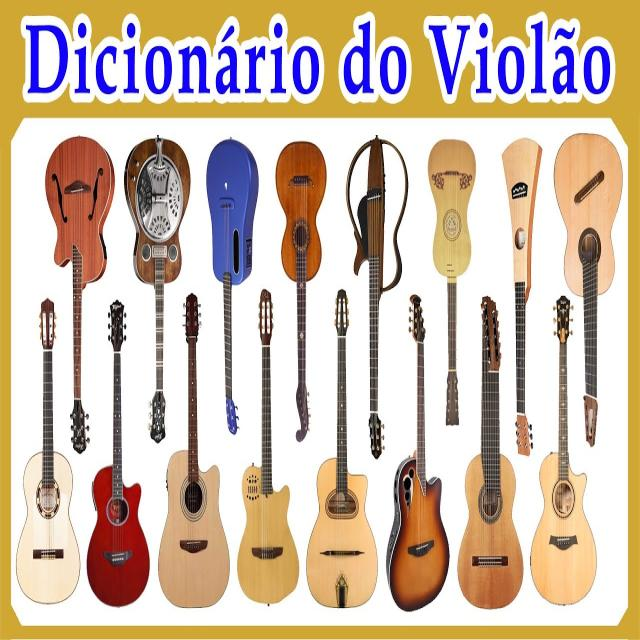acousticguitar: (307, 286, 375, 612), (160, 292, 228, 609), (554, 133, 622, 445), (531, 286, 596, 604), (346, 136, 408, 459), (16, 297, 80, 607), (46, 143, 110, 453), (237, 290, 299, 608), (462, 291, 524, 609), (389, 295, 450, 615), (87, 302, 149, 608), (125, 136, 187, 439), (207, 140, 260, 436), (276, 142, 326, 446), (427, 138, 473, 425), (502, 138, 542, 452), (69, 249, 89, 455), (149, 260, 167, 444)
